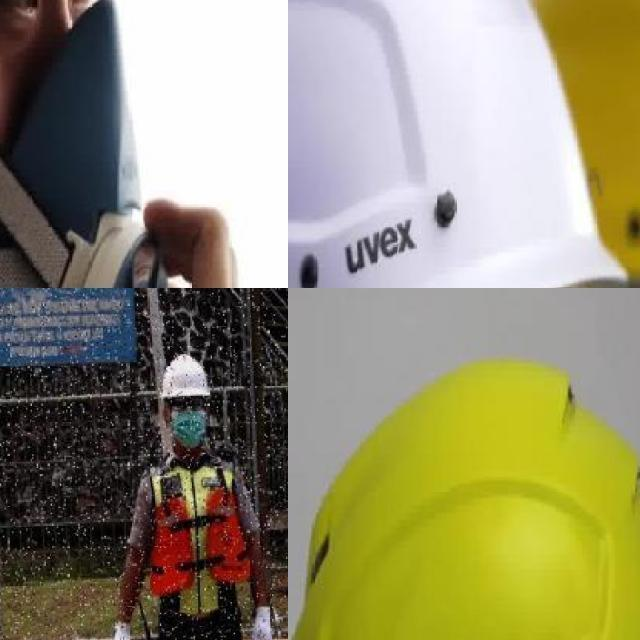apron: (247, 598, 278, 640), (108, 619, 135, 640)
